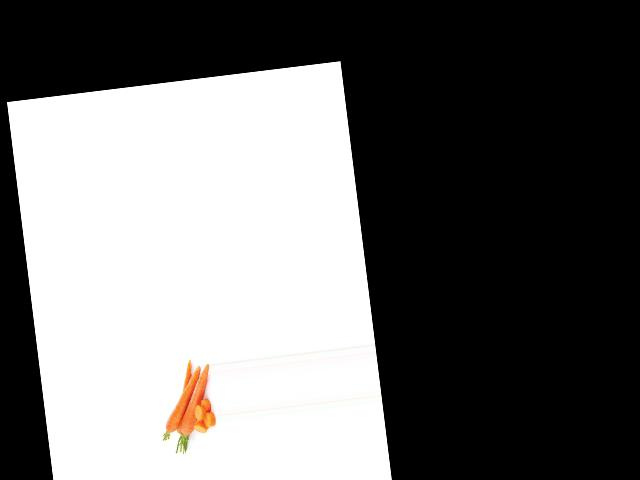carrot: (171, 364, 218, 443)
